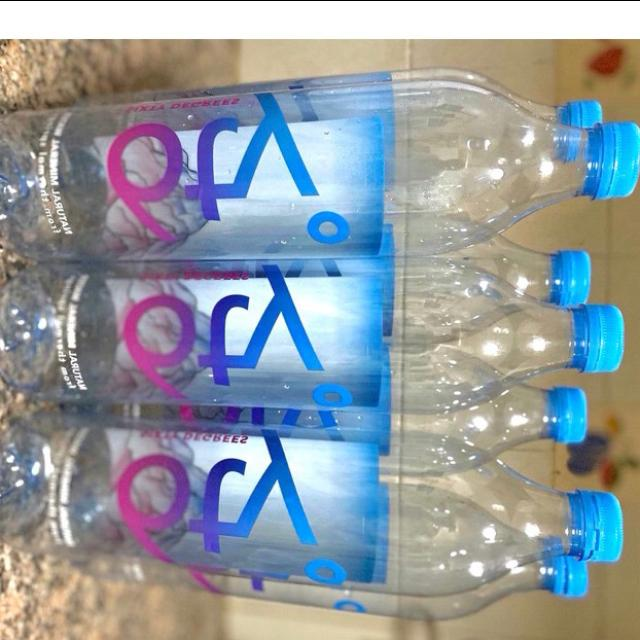plastik: (0, 404, 631, 600), (0, 69, 640, 259), (0, 258, 623, 412)
